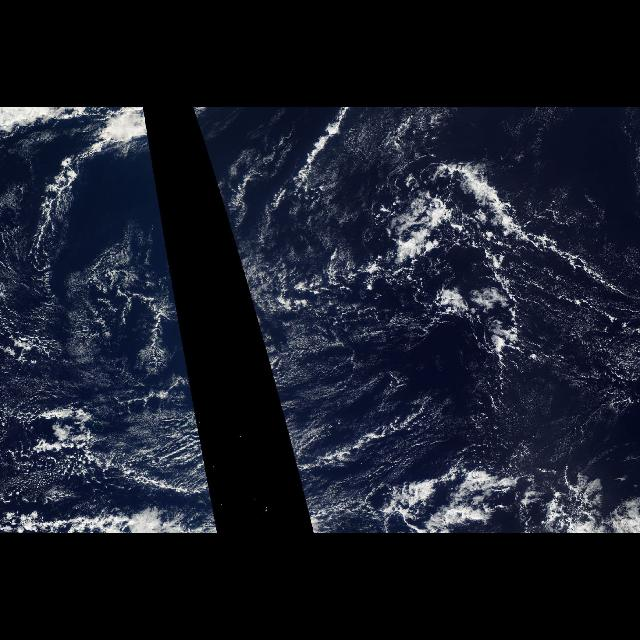Sugar: (1, 170, 217, 524), (240, 260, 484, 524), (210, 170, 226, 214)
